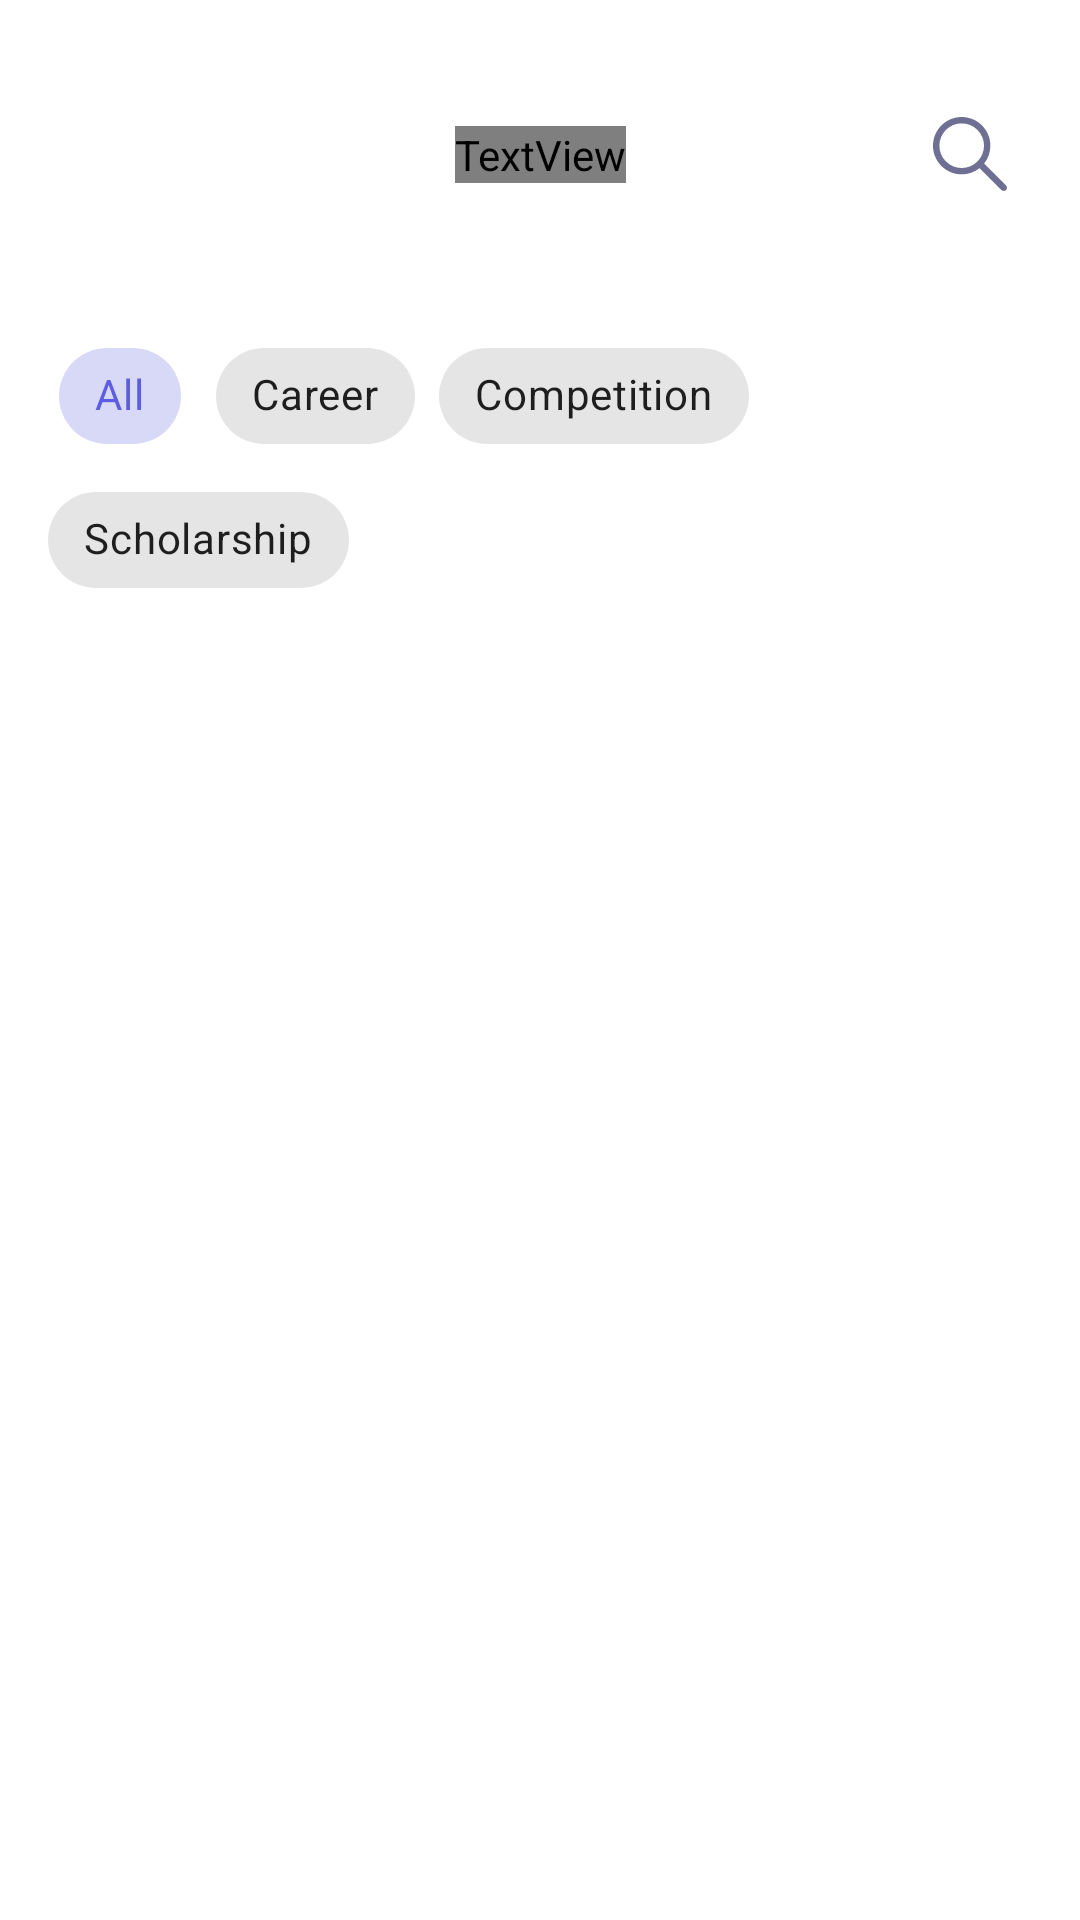

Icon click points for this 1080px x 1920px phone screenshot, format point (x, y):
search: point (970, 154)
